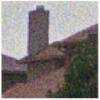chimneys: (28, 6, 50, 58)
